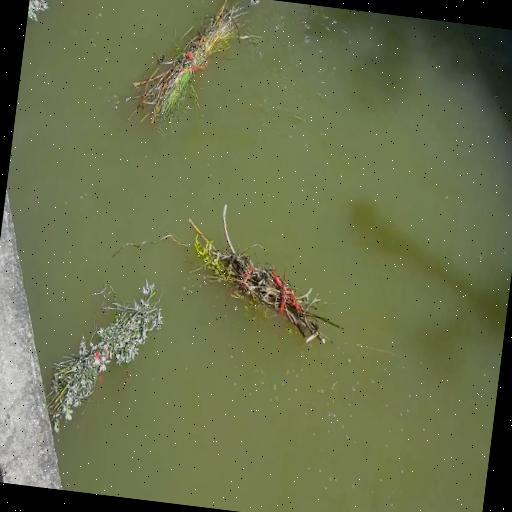twig: (190, 204, 342, 342), (47, 280, 163, 433), (134, 21, 233, 129), (222, 205, 234, 255), (27, 0, 50, 21)
